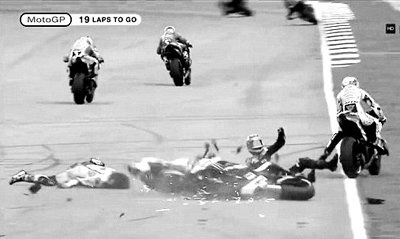falling: (238, 121, 326, 199)
